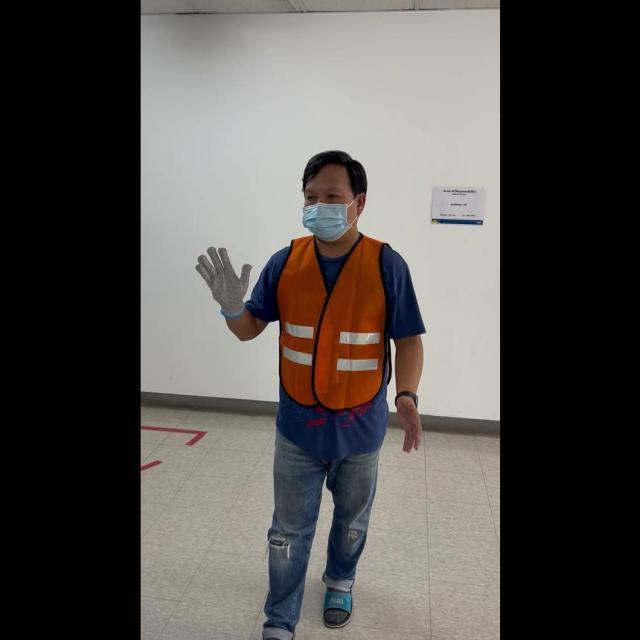bare_hand: (391, 391, 423, 454)
gloved_hand: (193, 240, 253, 319)
